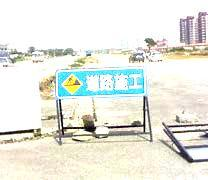sign: (55, 70, 146, 95)
